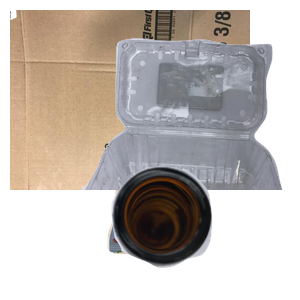cardboard: (10, 10, 250, 190)
glass: (109, 164, 300, 300)
plastic: (80, 36, 300, 216)
trash: (105, 152, 280, 300)
